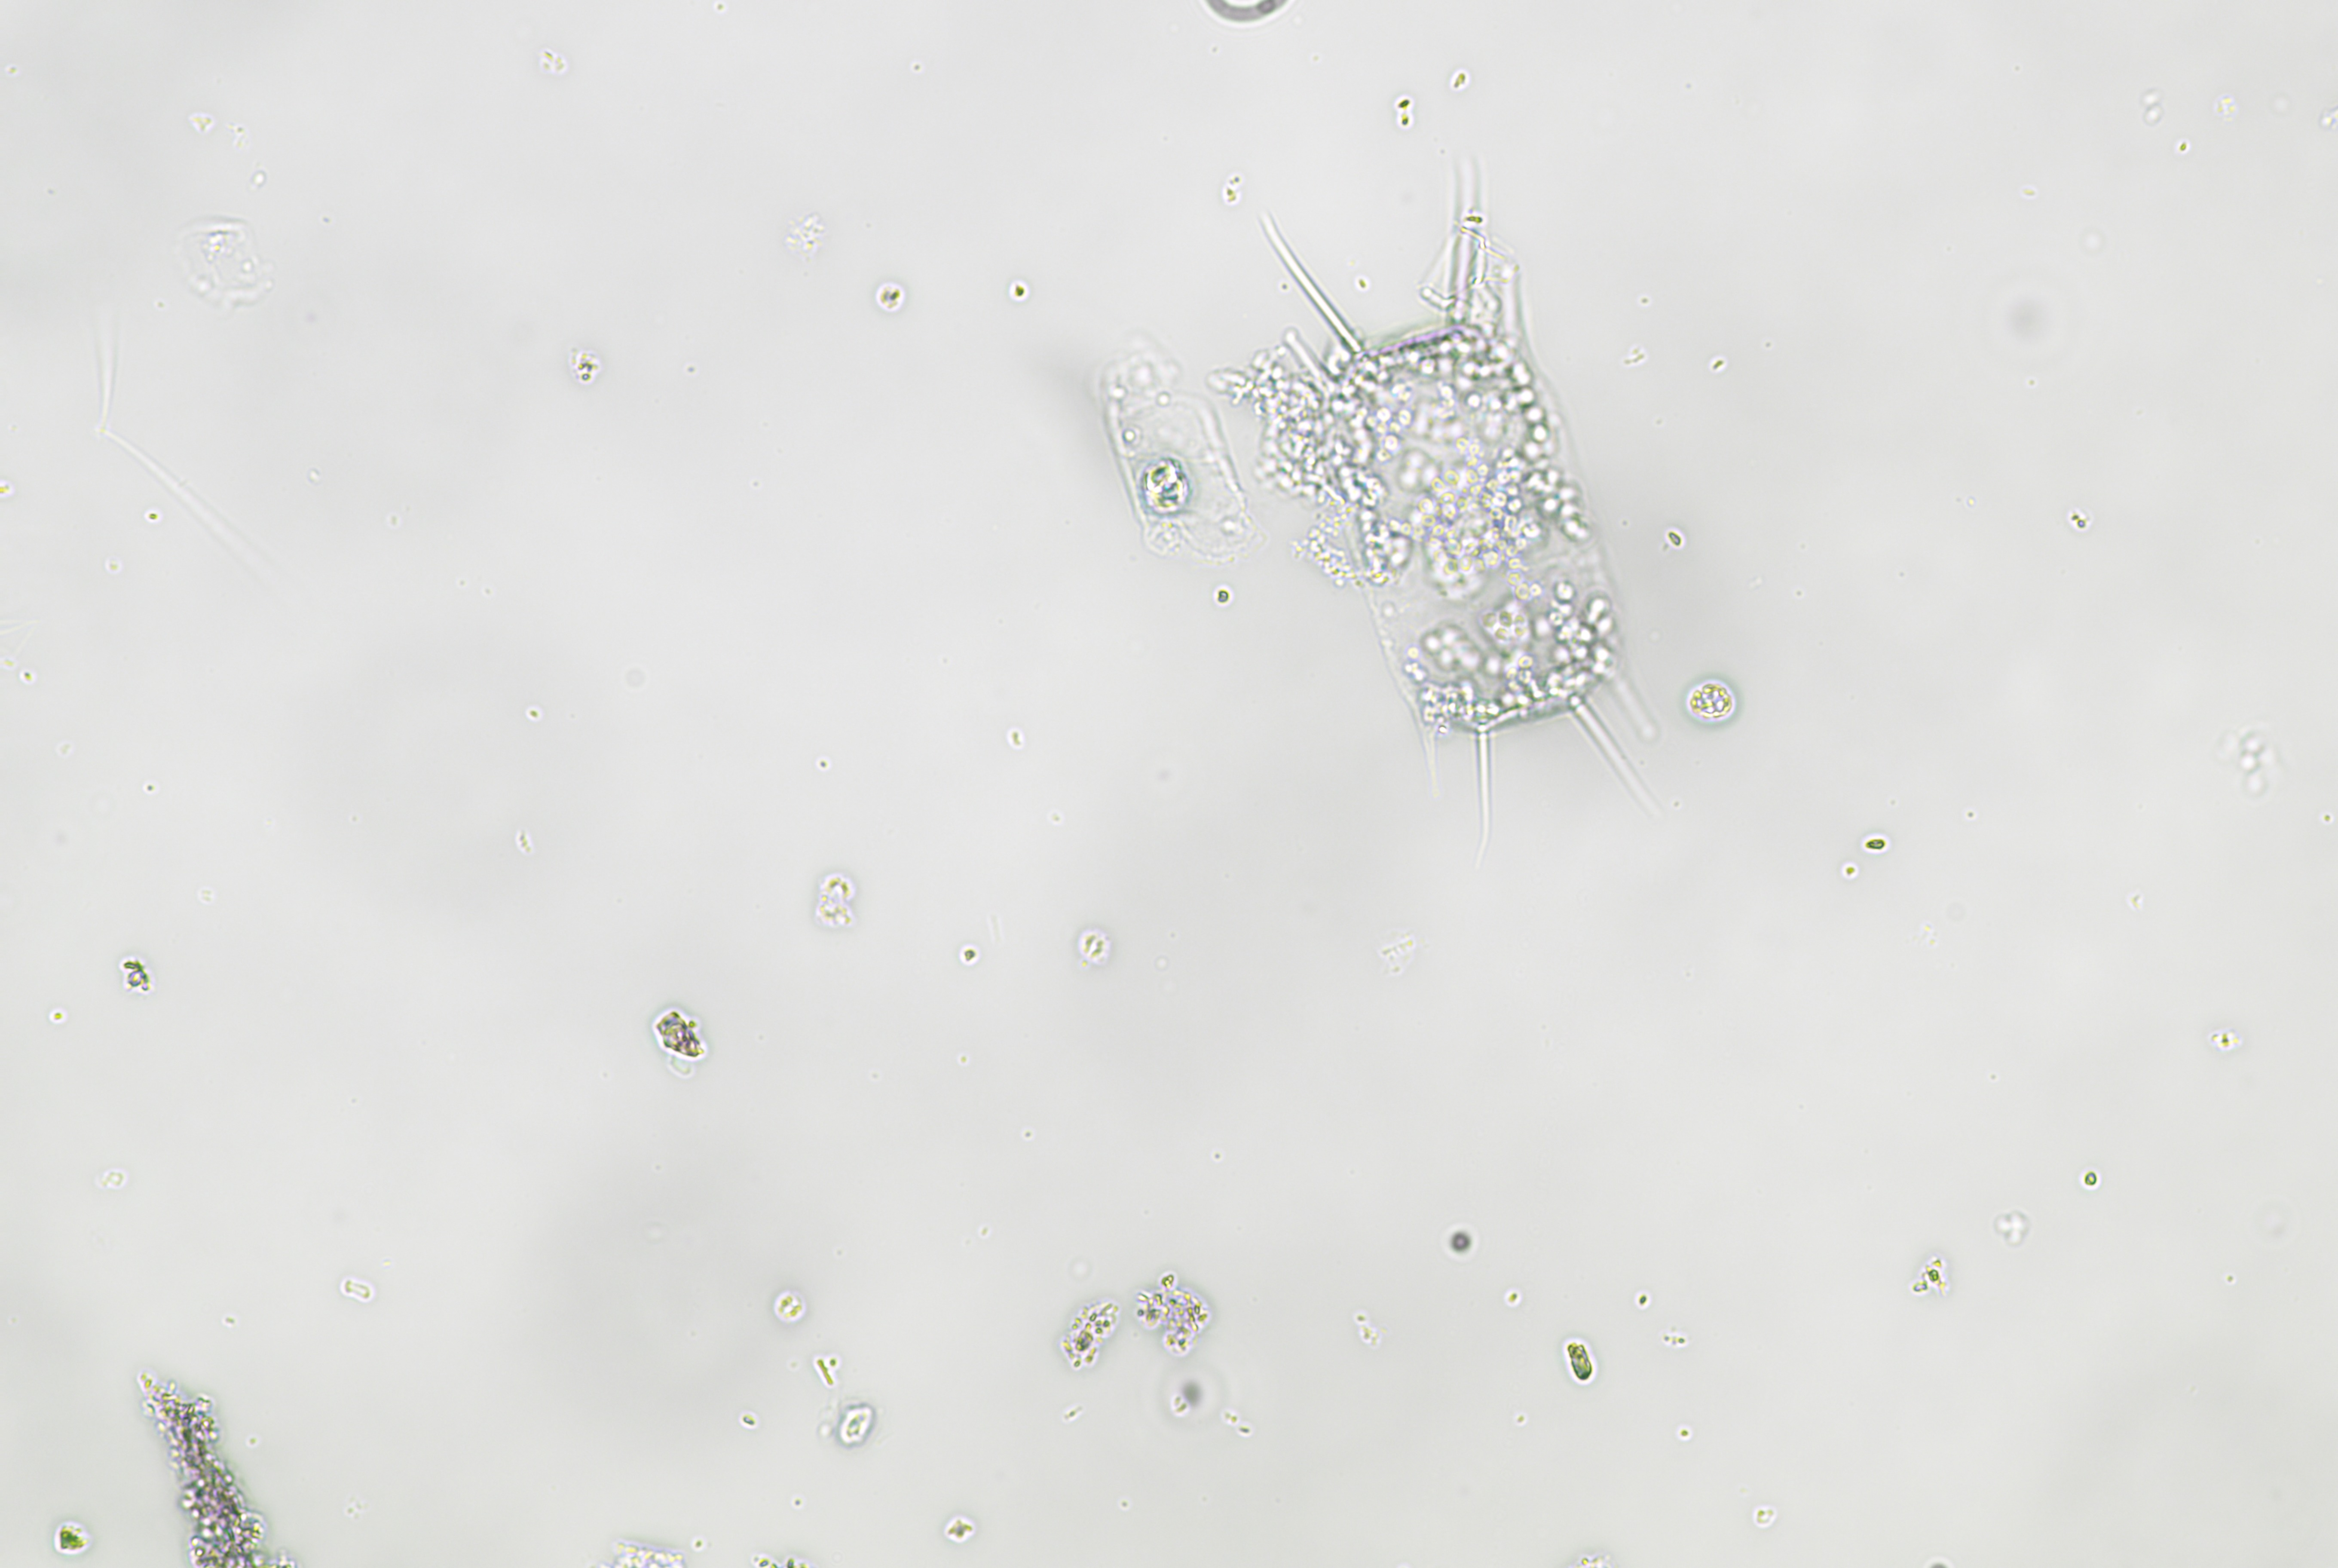biddulphia: (1257, 171, 1675, 826)
